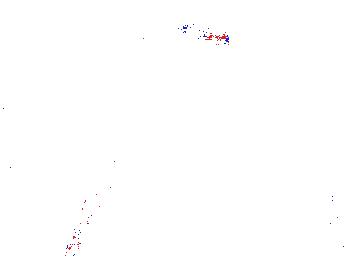X-ray fish: (1, 72, 48, 104)
glassfish: (175, 136, 282, 193), (68, 159, 124, 250)
red belly glassfish: (179, 20, 233, 48)
